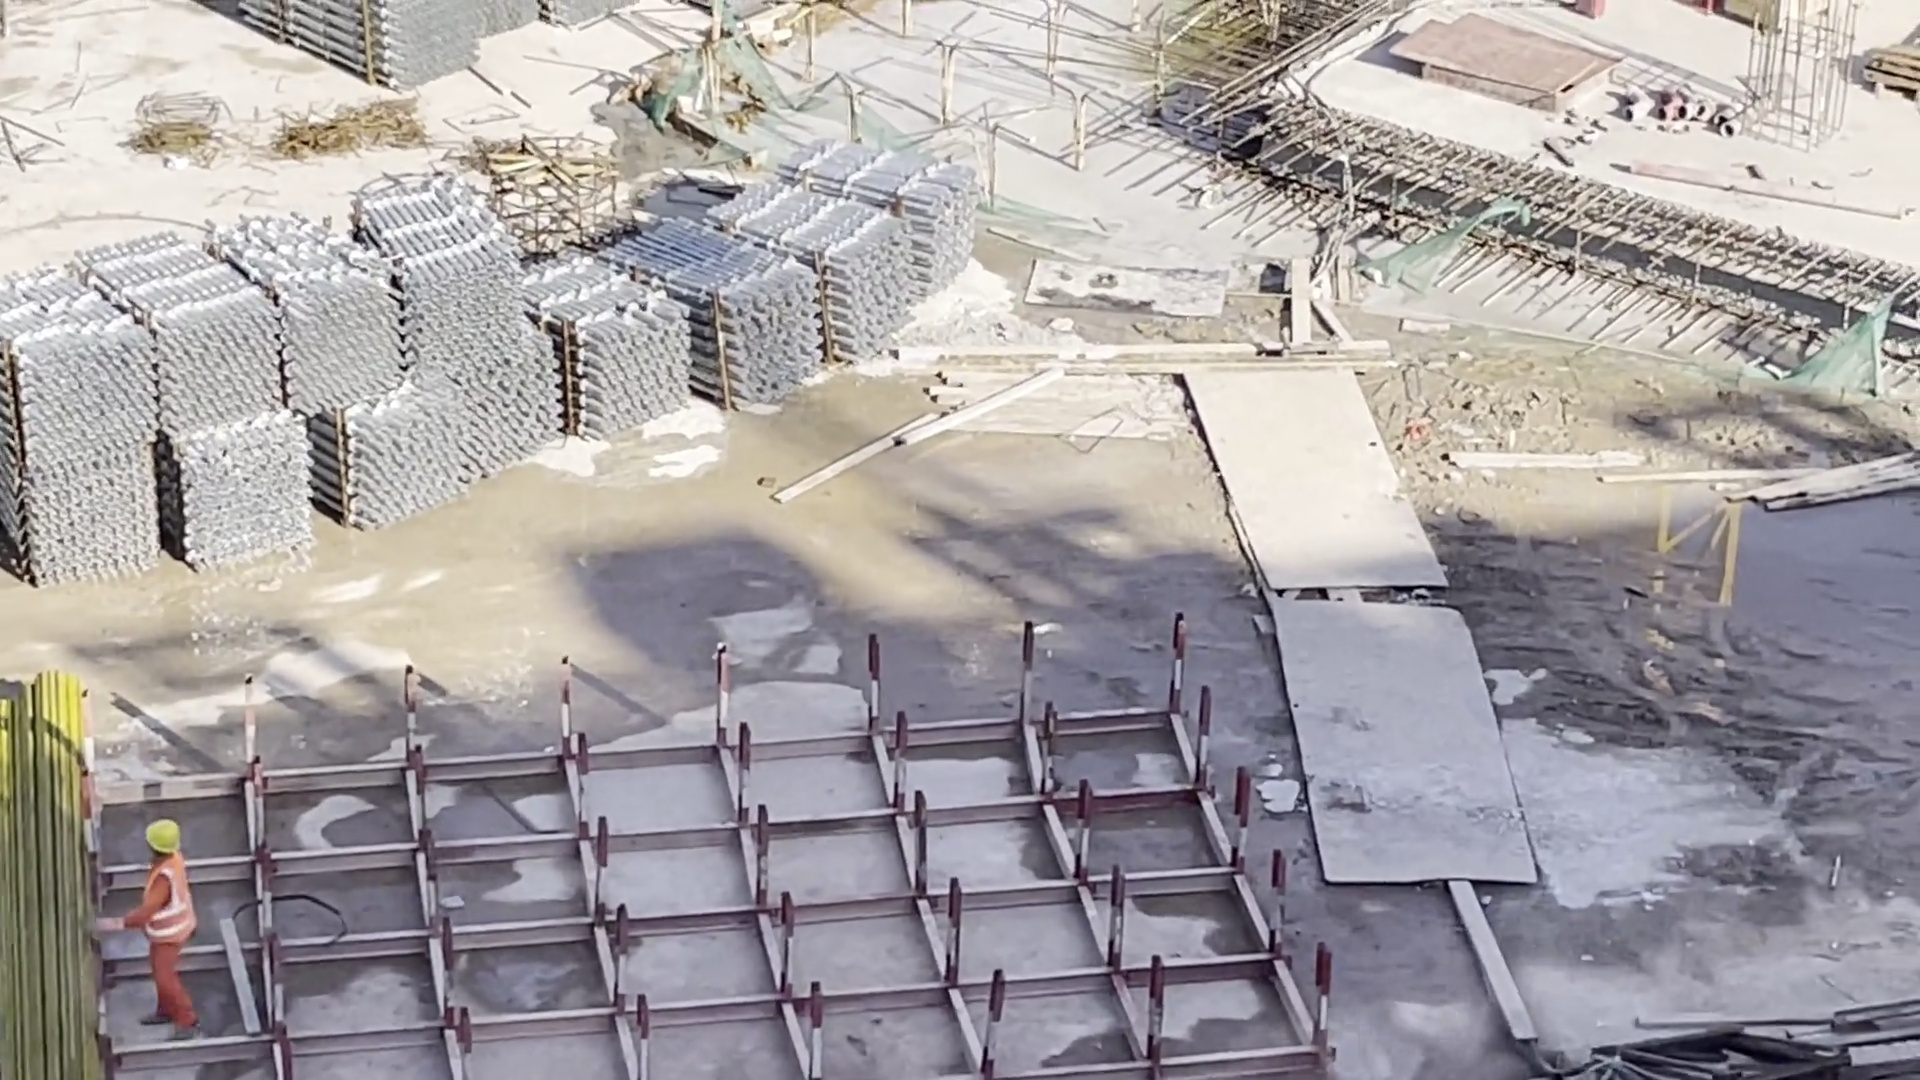board: (1380, 1, 1633, 111)
helmet: (130, 800, 191, 858)
person: (138, 808, 198, 1035)
scaffold: (1, 136, 994, 585)
vest: (132, 861, 199, 937)
